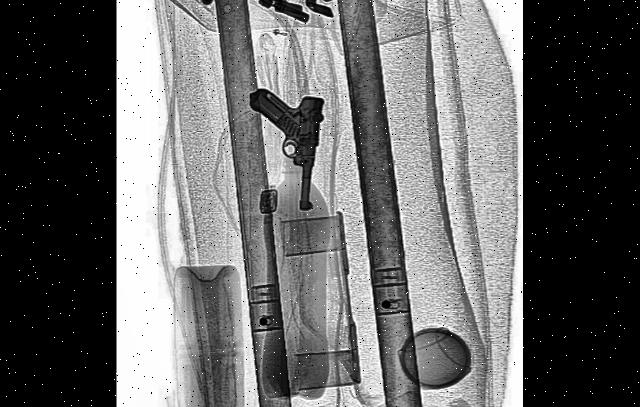Gun: (240, 75, 326, 210)
